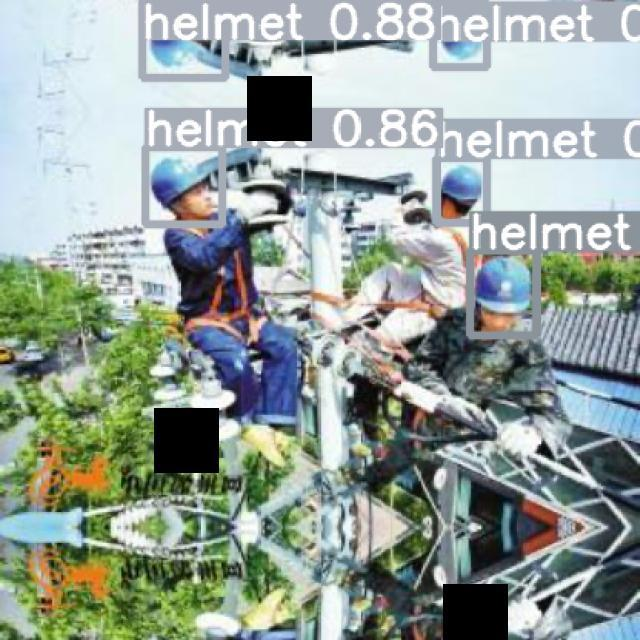helmet: (474, 257, 531, 314), (150, 156, 209, 208), (441, 165, 481, 202)
